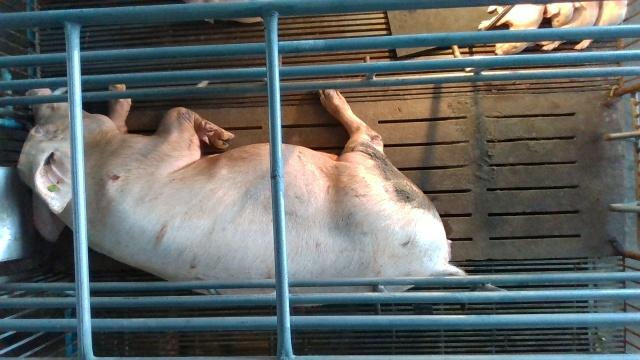piglet: (478, 4, 544, 55), (537, 1, 600, 50), (574, 0, 627, 49)
sow-sleep: (14, 82, 469, 305)
